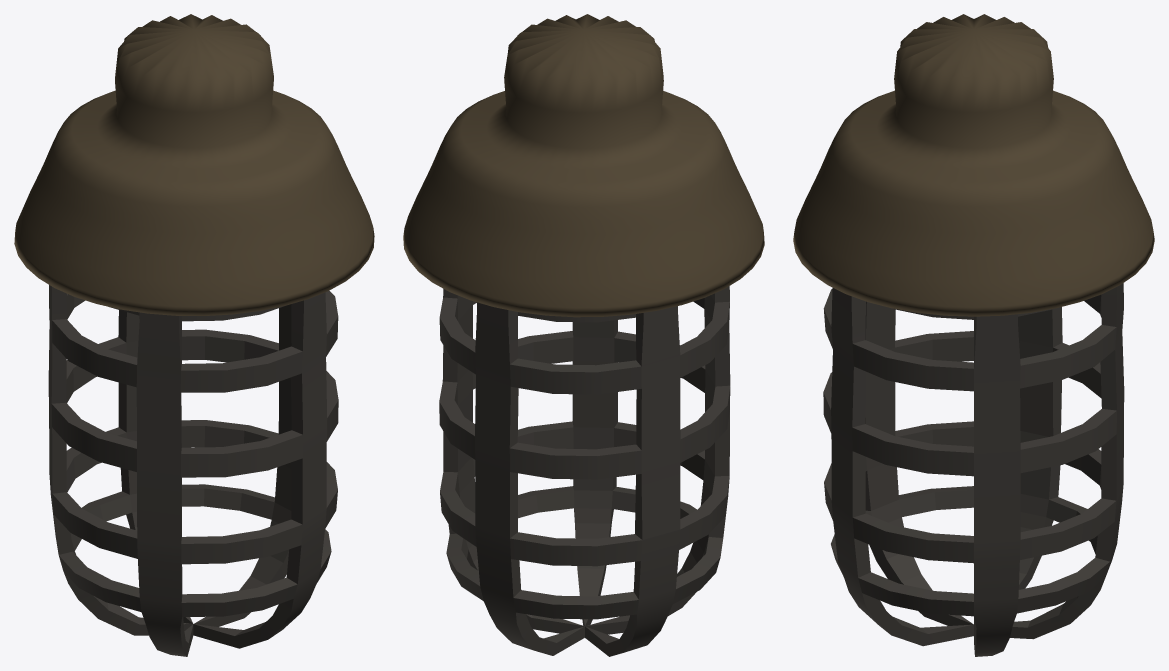
Rendered from Obj_lamp.fbx.
The picture shows the model from 3 angles, left to right: view 1: azimuth 30°, elevation 25°; view 2: azimuth 150°, elevation 25°; view 3: azimuth 270°, elevation 25°; orthographic projection.
Visible parts, largest first — view 1: Top, Base; view 2: Base, Top; view 3: Base, Top.
Part boxes in pixels (bbox=[...]): Top: bbox=[14, 14, 374, 315]; Base: bbox=[48, 285, 338, 656]; Base: bbox=[439, 286, 730, 656]; Top: bbox=[403, 14, 764, 317]; Base: bbox=[823, 283, 1124, 656]; Top: bbox=[793, 14, 1154, 316].
Size of the model in its own units: 19.8 by 36.66 by 19.8.
